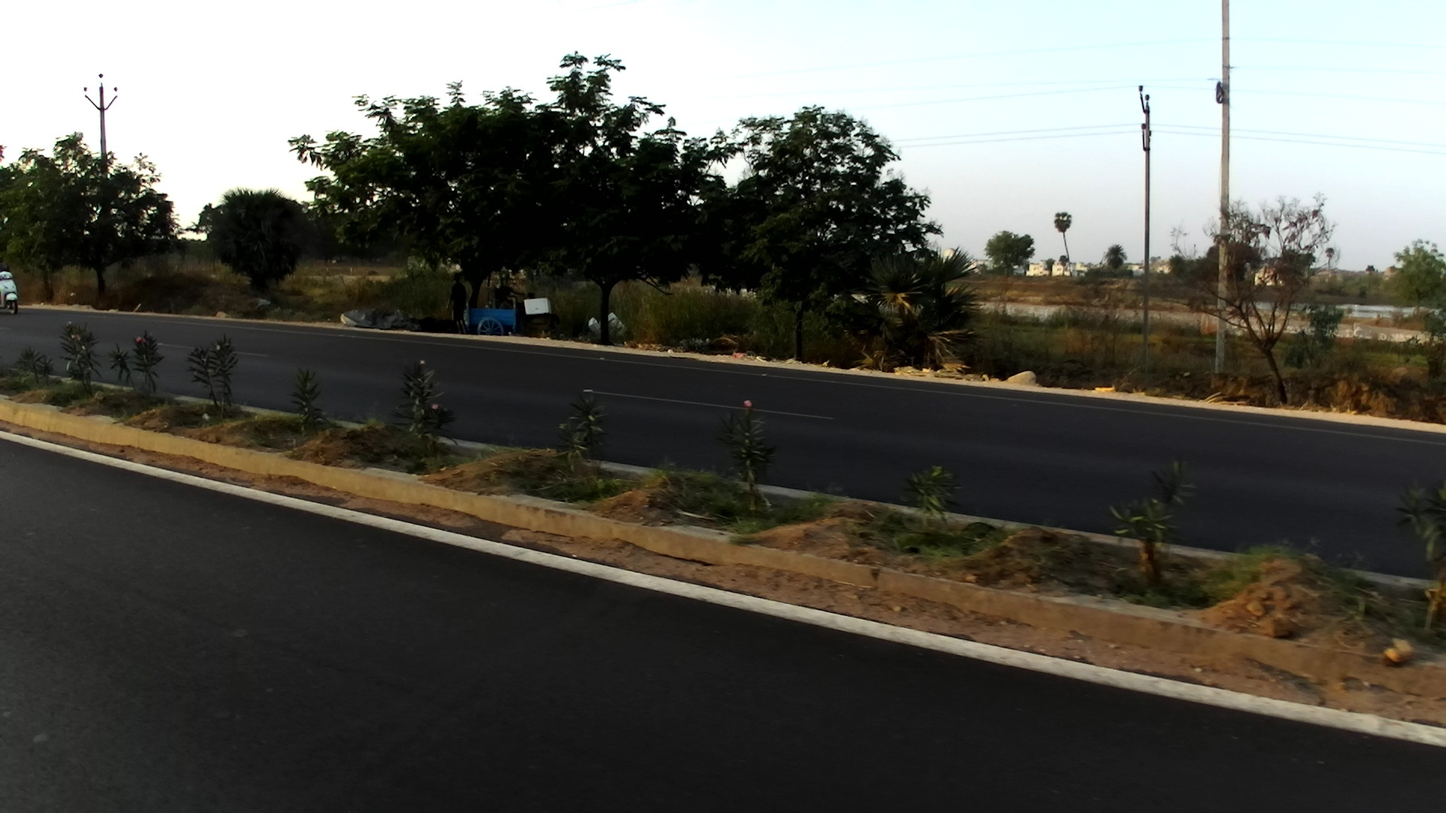motorcycle: (1, 269, 21, 318)
person: (446, 266, 474, 335)
vehicle fallback: (461, 271, 529, 339)
